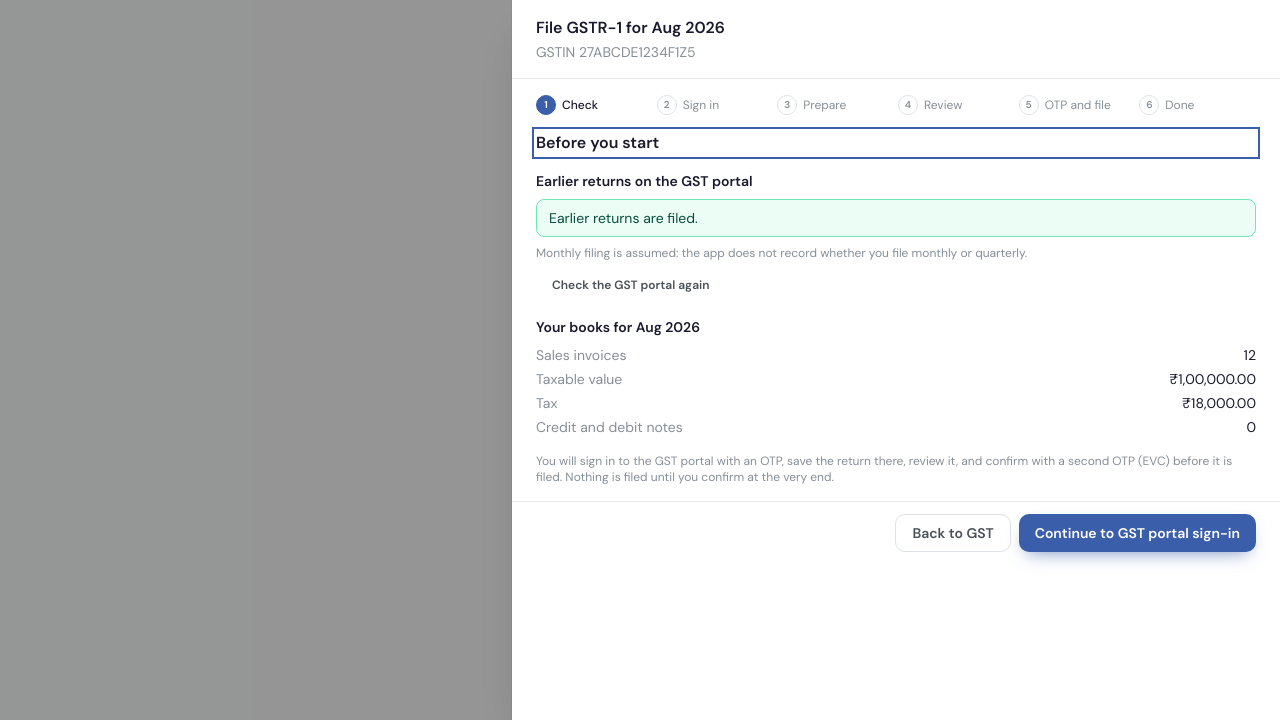
it: 2. GST portal sign-in › a wrong sign-in OTP stays on the step with the server's message
Click the button "Continue to GST portal sign-in" at (1137, 533), box 1019,514 -> 1256,552
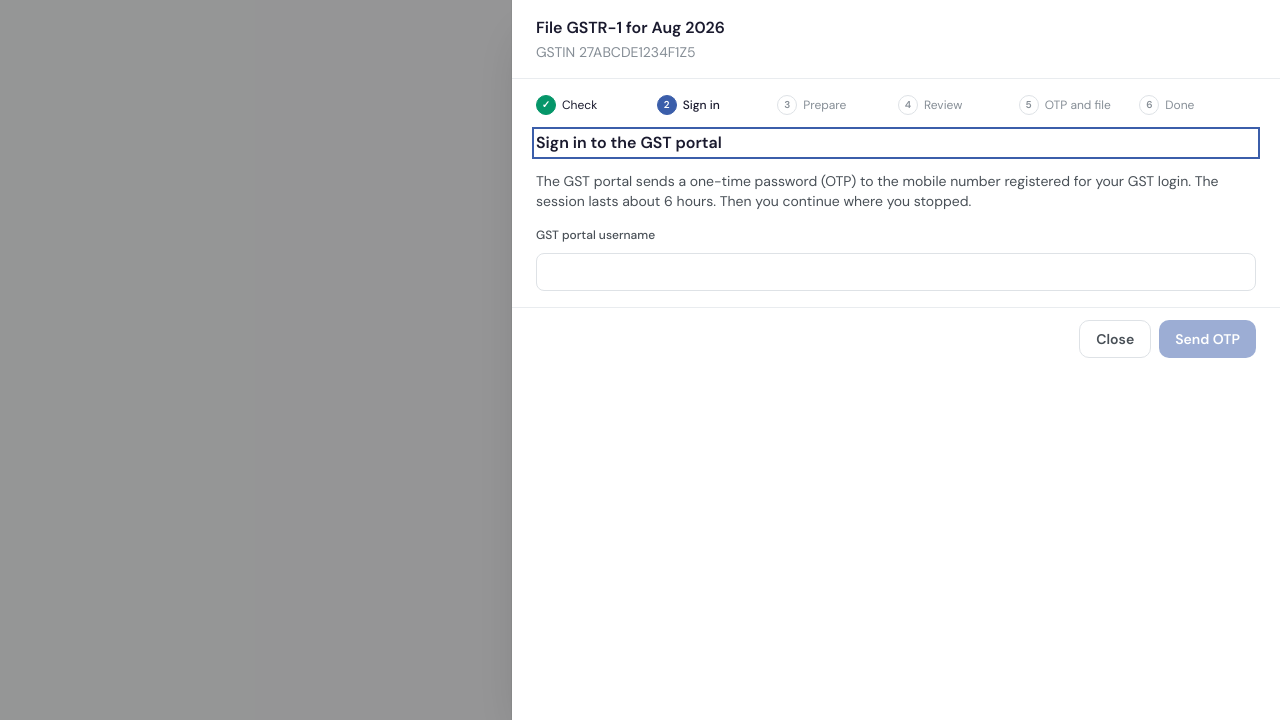
Type "portal.user" into the field labelled "GST portal username" at (896, 272), box 536,253 -> 1256,291
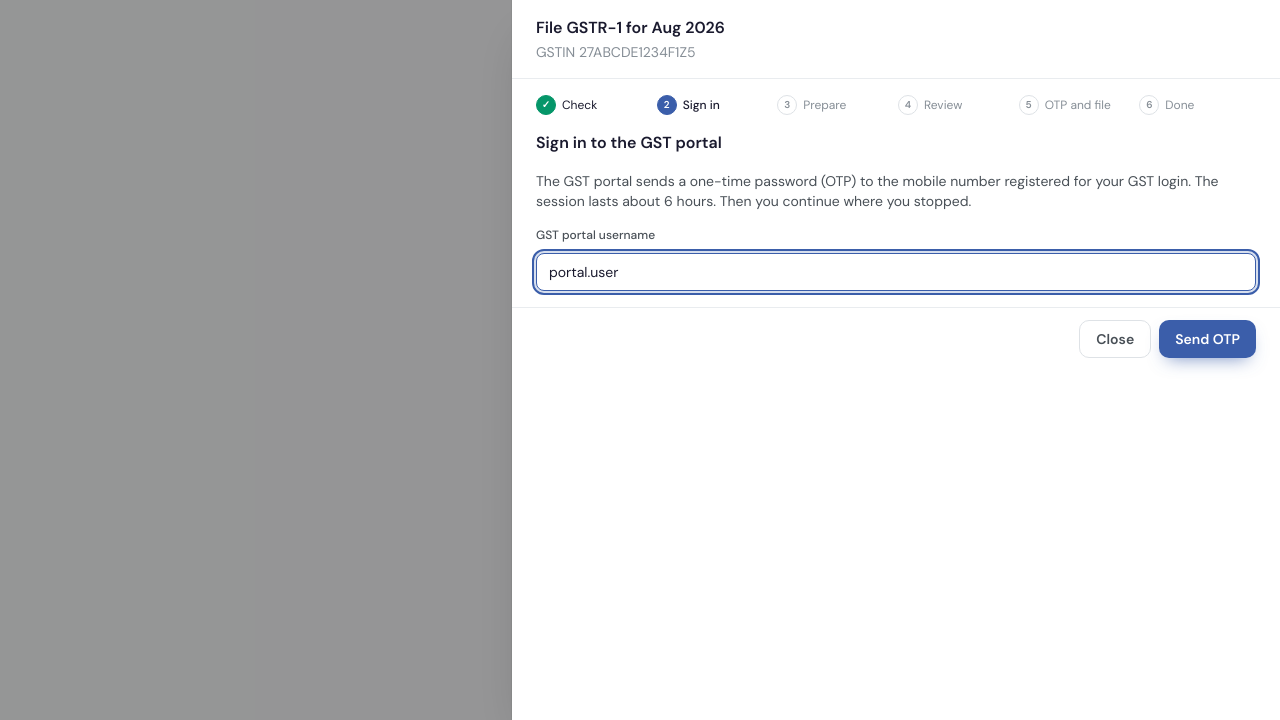
Click the button "Send OTP" at (1208, 339), box 1159,320 -> 1256,358
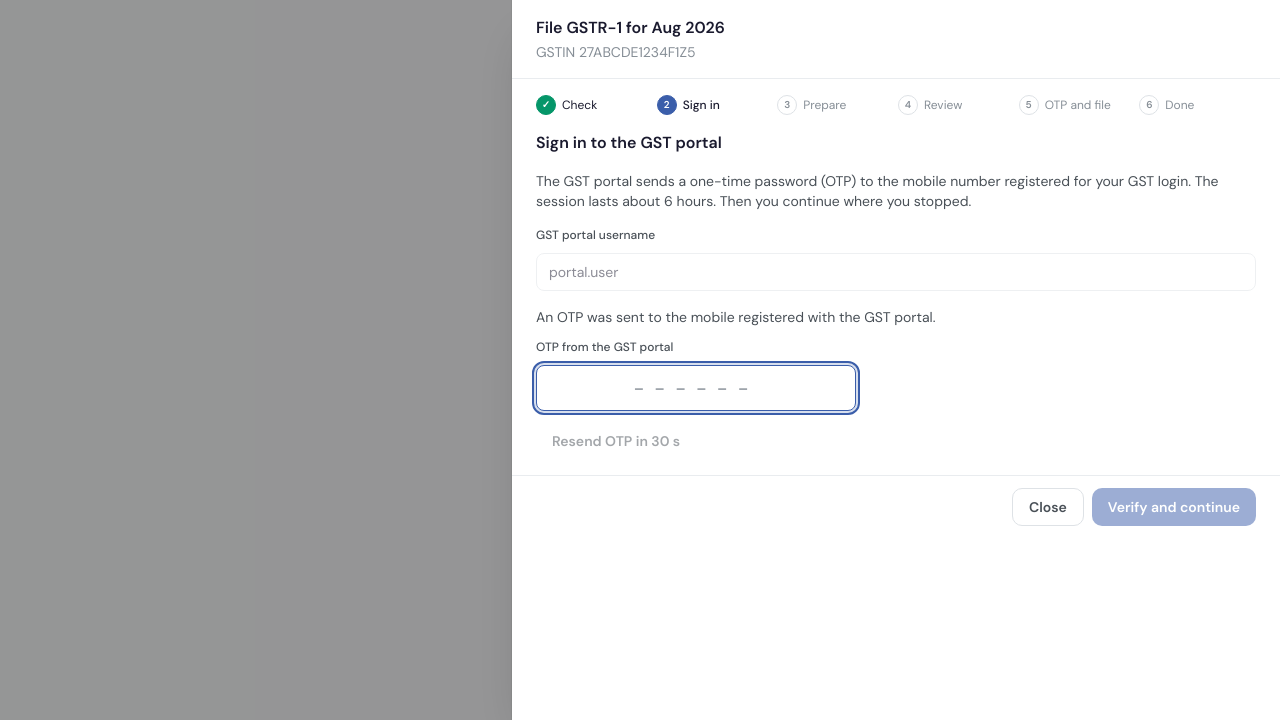
Type "111111" into the field labelled "OTP from the GST portal" at (696, 388), box 536,365 -> 856,411
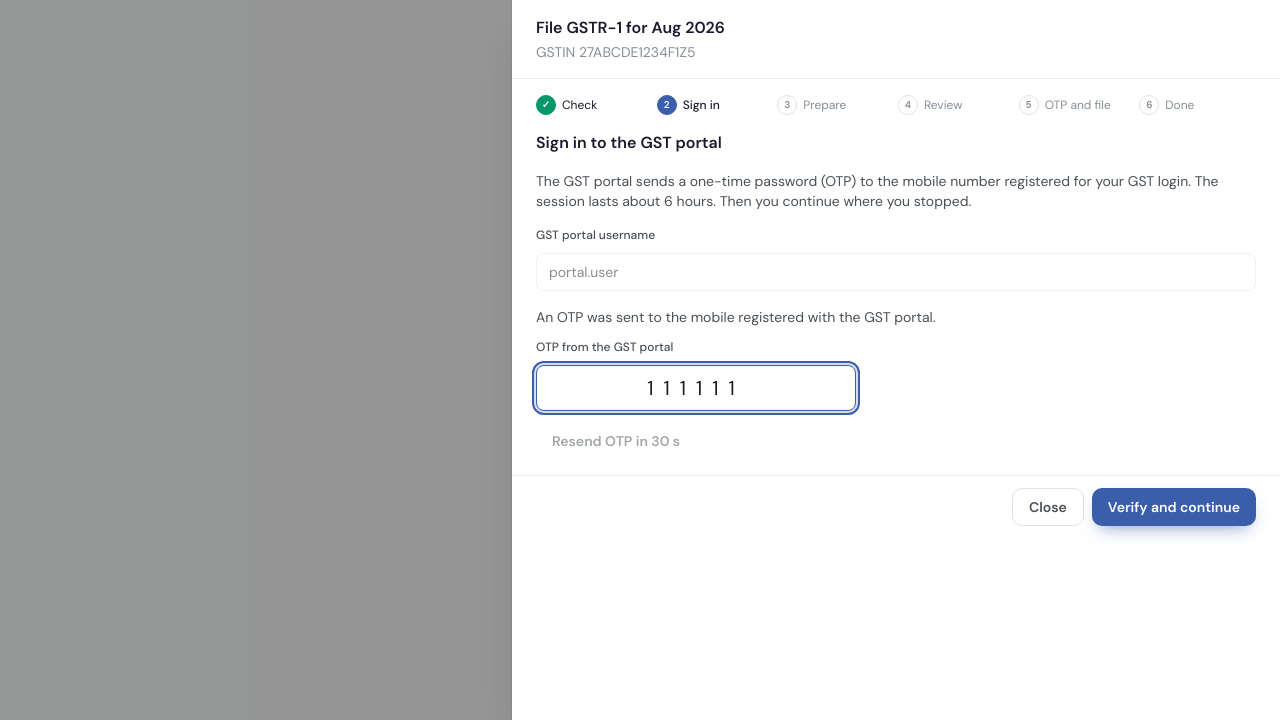
Click the button "Verify and continue" at (1174, 507), box 1092,488 -> 1256,526
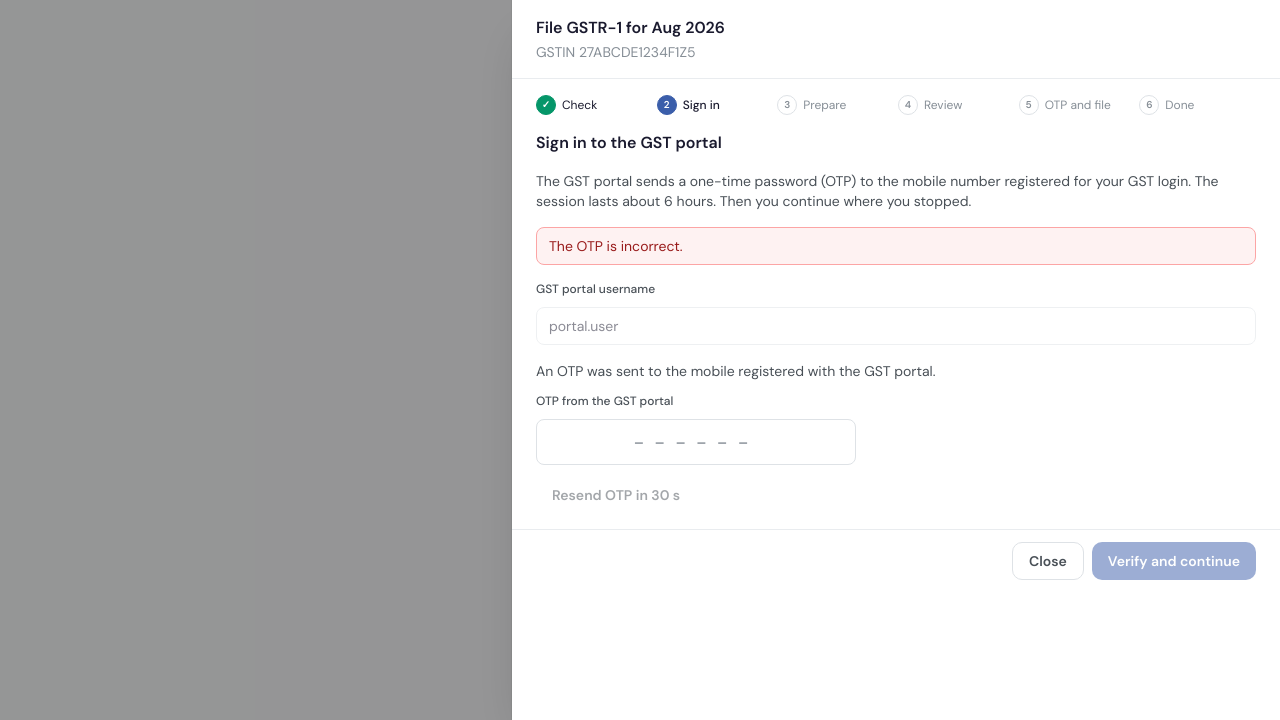
Now the heading "Sign in to the GST portal" is shown, box 536,132 -> 722,153
Now the text "The OTP is incorrect." is shown, box 536,227 -> 1256,265
